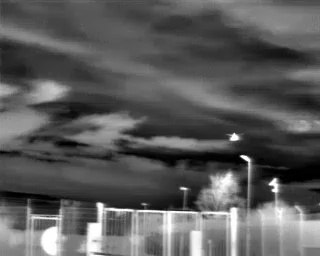HELICOPTER: (224, 128, 245, 145)
